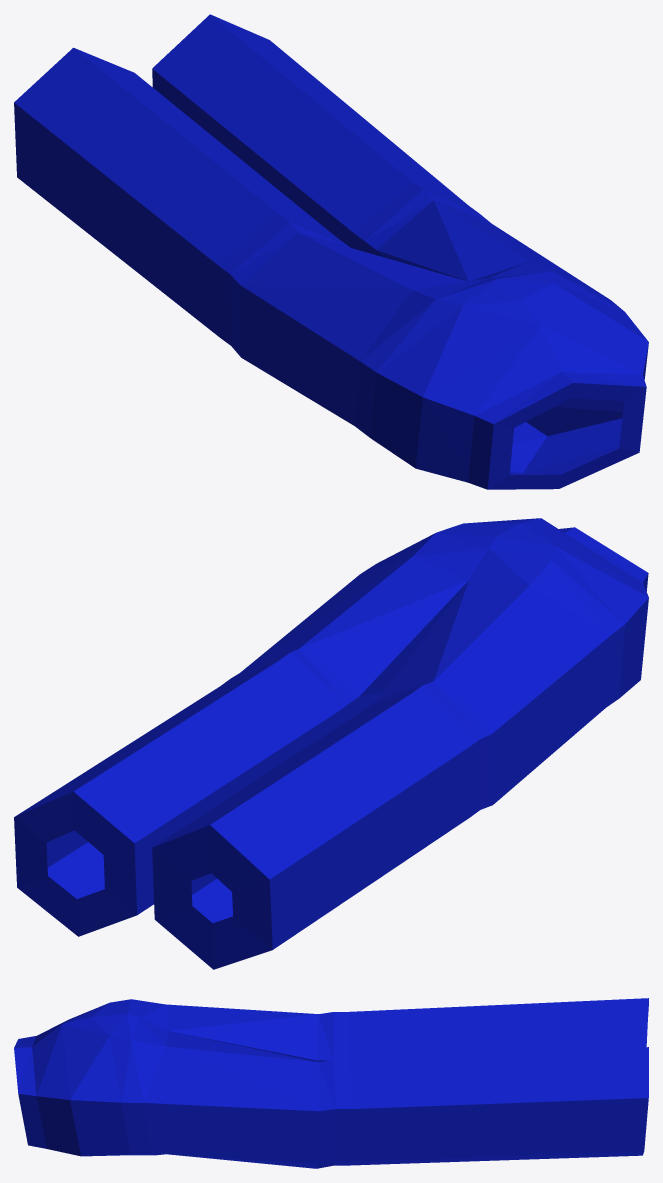
The model's file is jeans.obj.
3 views of the same model, one above another, from view 1: azimuth 30°, elevation 25°; view 2: azimuth 150°, elevation 25°; view 3: azimuth 270°, elevation 25° (orthographic). The views are drawn at different scales.
Parts seen in each view (by area): view 1: pants3; view 2: pants3; view 3: pants3.
Boxes of the visible parts, x1,y1,x2,y2 form: pants3: [14, 14, 648, 489]; pants3: [14, 518, 648, 969]; pants3: [14, 998, 648, 1168].
Size of the model in its own units: 2.26 by 1.5 by 6.61.
